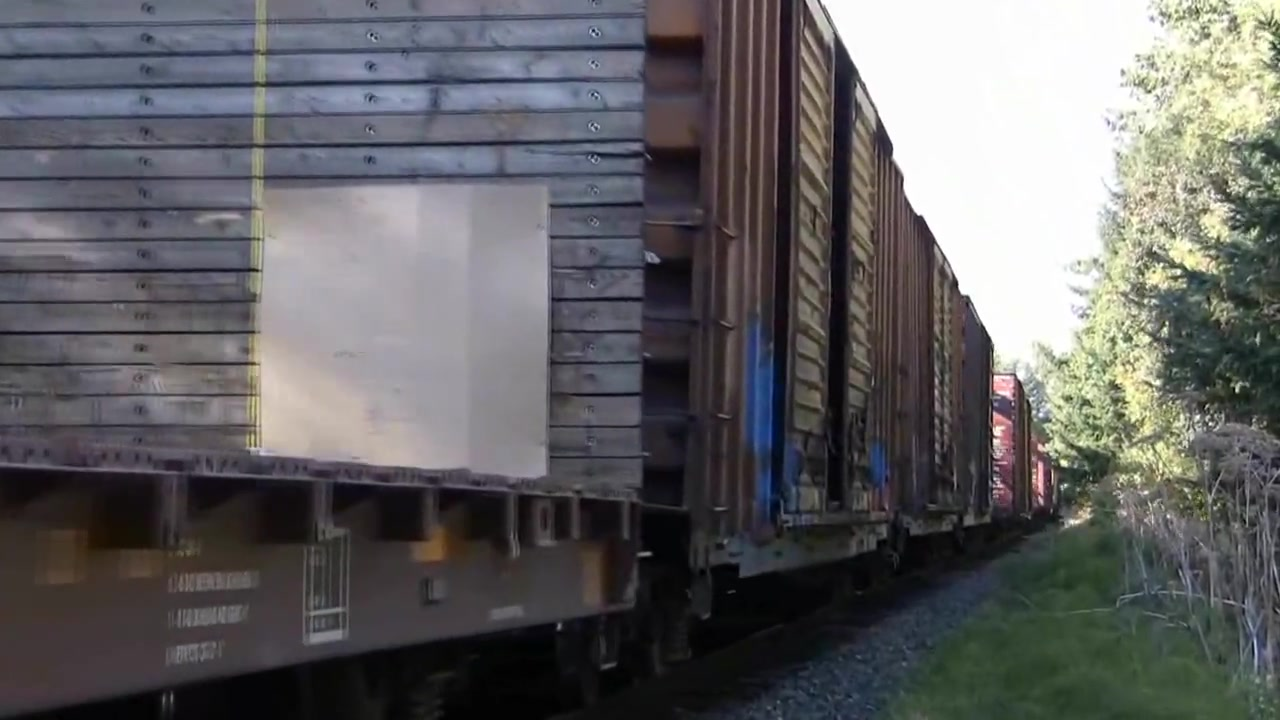train: (1, 1, 1065, 720)
